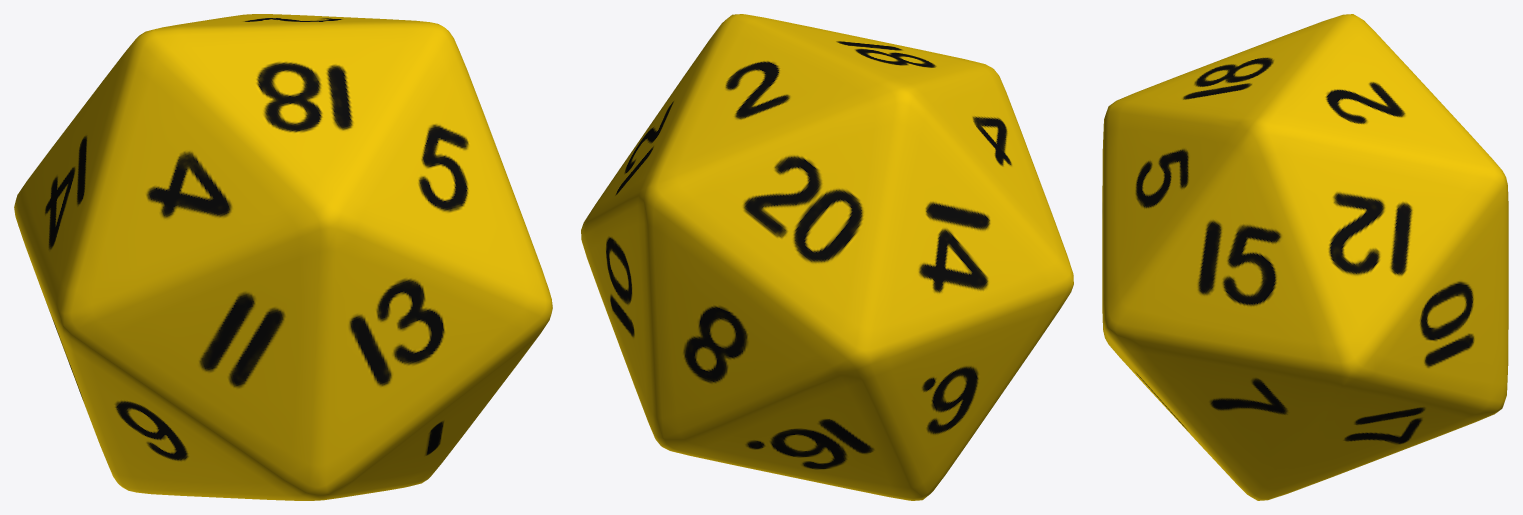
3 renders of one model, left to right at view 1: azimuth 30°, elevation 25°; view 2: azimuth 150°, elevation 25°; view 3: azimuth 270°, elevation 25°, orthographic. The views are drawn at different scales.
Visible parts, largest first — view 1: Twenty_sided_cube_pivot.003; view 2: Twenty_sided_cube_pivot.003; view 3: Twenty_sided_cube_pivot.003.
Boxes of the visible parts, <box> form: Twenty_sided_cube_pivot.003: <box>14,14,552,500</box>; Twenty_sided_cube_pivot.003: <box>581,14,1073,500</box>; Twenty_sided_cube_pivot.003: <box>1102,14,1508,500</box>.
Bounding box in the file's own units: 2.28 × 2.05 × 1.9.
1 material, 1 textured.
